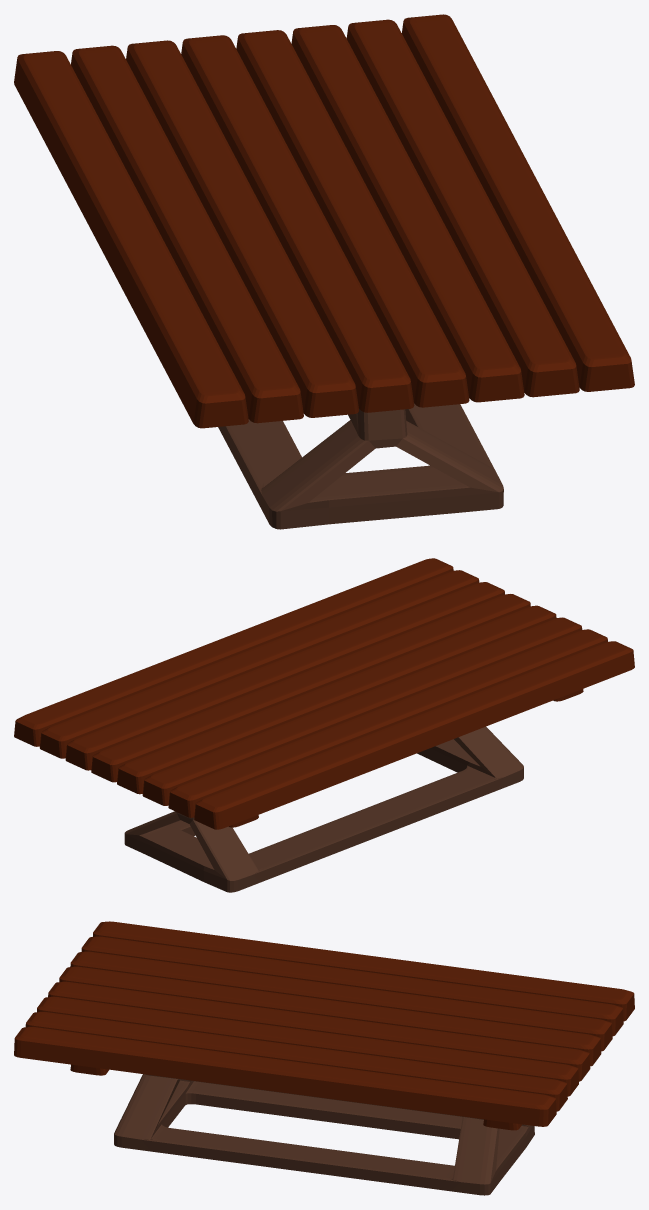
The model's file is MASA.fbx.
The picture shows the model from 3 angles, top to bottom: view 1: azimuth 30°, elevation 25°; view 2: azimuth 150°, elevation 25°; view 3: azimuth 270°, elevation 25°; orthographic projection. The views are drawn at different scales.
Visible parts, largest first — view 1: Cube.022, Cube.021; view 2: Cube.022, Cube.021; view 3: Cube.022, Cube.021.
Part boxes in pixels (<box>): Cube.022: <box>14,14,634,428</box>; Cube.021: <box>218,403,503,529</box>; Cube.022: <box>14,558,634,829</box>; Cube.021: <box>124,726,523,892</box>; Cube.022: <box>14,921,634,1130</box>; Cube.021: <box>114,1074,534,1195</box>.
Size of the model in its own units: 932 by 290 by 1289.
